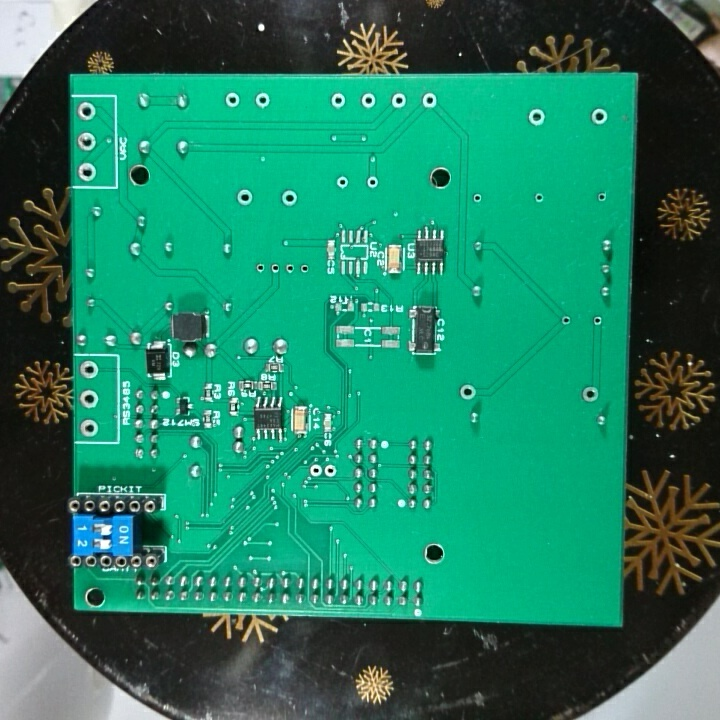F: (77, 358, 102, 383), (74, 129, 99, 153), (74, 160, 99, 184), (78, 387, 100, 412), (77, 416, 99, 440), (588, 106, 611, 128), (526, 106, 548, 129), (234, 186, 256, 209), (75, 100, 97, 123), (279, 187, 300, 210), (580, 383, 601, 406), (328, 90, 348, 112), (222, 89, 242, 111), (457, 382, 477, 403), (359, 90, 378, 112), (420, 90, 439, 112), (253, 89, 272, 111), (389, 91, 408, 112), (531, 189, 549, 207), (283, 258, 298, 279), (334, 174, 351, 191), (308, 461, 323, 480), (268, 260, 284, 277), (364, 173, 379, 191), (297, 260, 312, 278), (594, 189, 609, 205), (324, 463, 338, 480), (253, 261, 268, 276), (471, 190, 485, 206), (559, 313, 573, 329), (591, 313, 604, 330)
